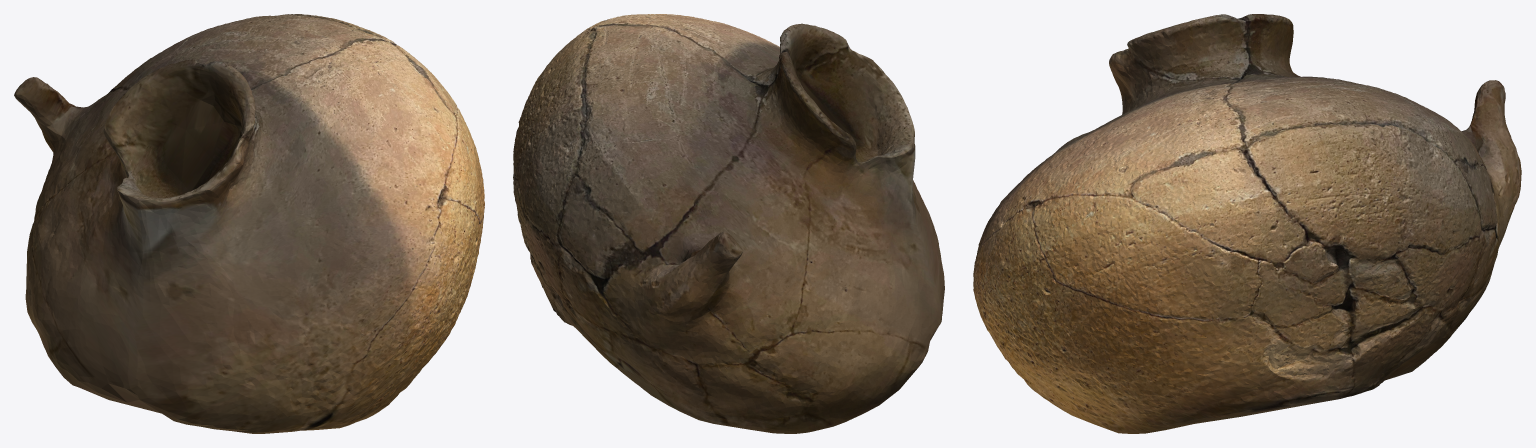
File: bottle.glb
3 renders of one model, left to right at view 1: azimuth 30°, elevation 25°; view 2: azimuth 150°, elevation 25°; view 3: azimuth 270°, elevation 25°, orthographic. The views are drawn at different scales.
Size of the model in its own units: 0.3696 by 0.3164 by 0.4276.
Materials: 1 (1 with a texture image).
